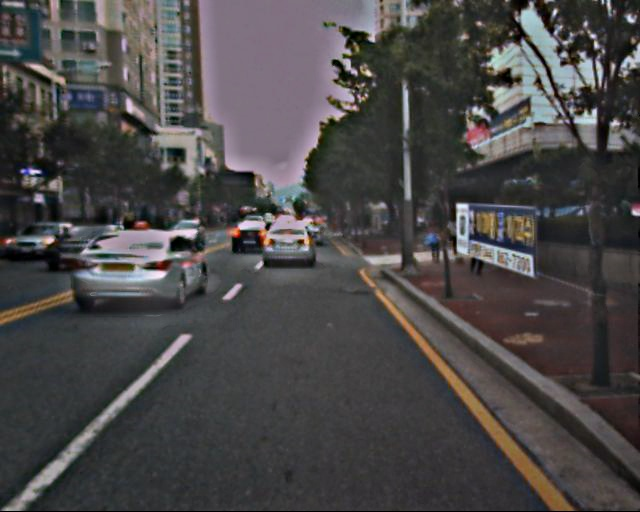person: (465, 221, 490, 281), (425, 216, 446, 267), (443, 210, 462, 257)
